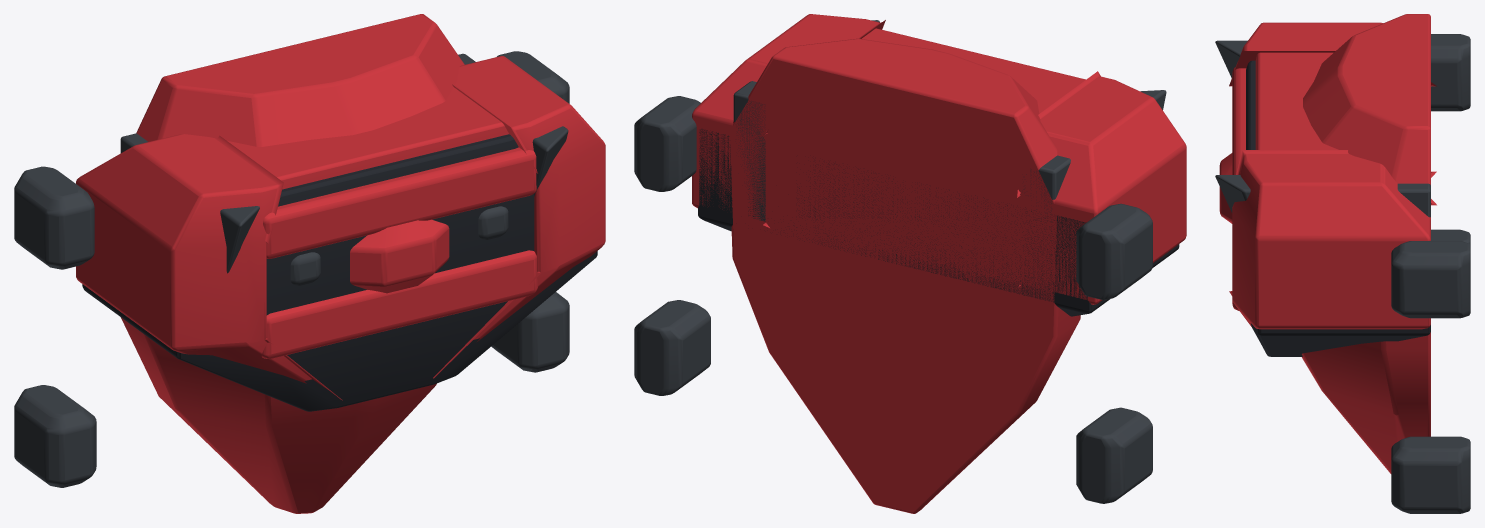
File: UpperArmFront_Set09_Mantis.fbx
3 views of the same model, side by side, from view 1: azimuth 30°, elevation 25°; view 2: azimuth 150°, elevation 25°; view 3: azimuth 270°, elevation 25° (orthographic). The views are drawn at different scales.
Visible parts, largest first — view 1: UpperArmFront_Set09_Mantis; view 2: UpperArmFront_Set09_Mantis; view 3: UpperArmFront_Set09_Mantis.
Boxes of the visible parts, bbox=[...] form: UpperArmFront_Set09_Mantis: bbox=[14, 14, 605, 513]; UpperArmFront_Set09_Mantis: bbox=[634, 14, 1186, 513]; UpperArmFront_Set09_Mantis: bbox=[1215, 14, 1470, 513].
Bounding box in the file's own units: 0.41 × 0.34 × 0.1929.
